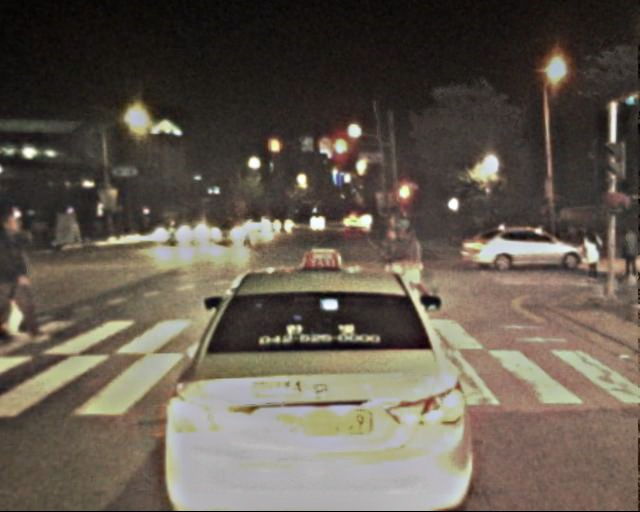person: (385, 232, 432, 313), (580, 228, 606, 291), (616, 225, 640, 285)
